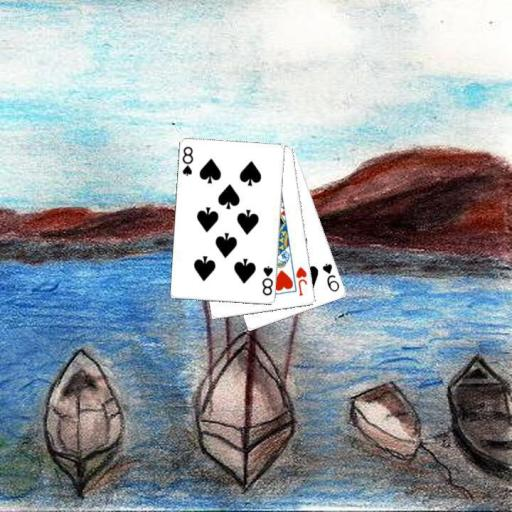8S: (179, 144, 195, 178), (259, 263, 274, 298)
9S: (319, 260, 341, 294)
JH: (293, 264, 309, 297)
